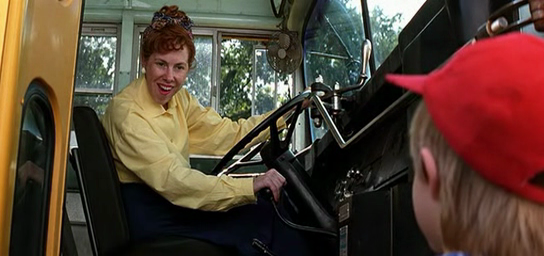face: (149, 50, 189, 105)
ms: (1, 1, 543, 255)
ots: (385, 30, 544, 256)
person: (103, 6, 287, 255)
